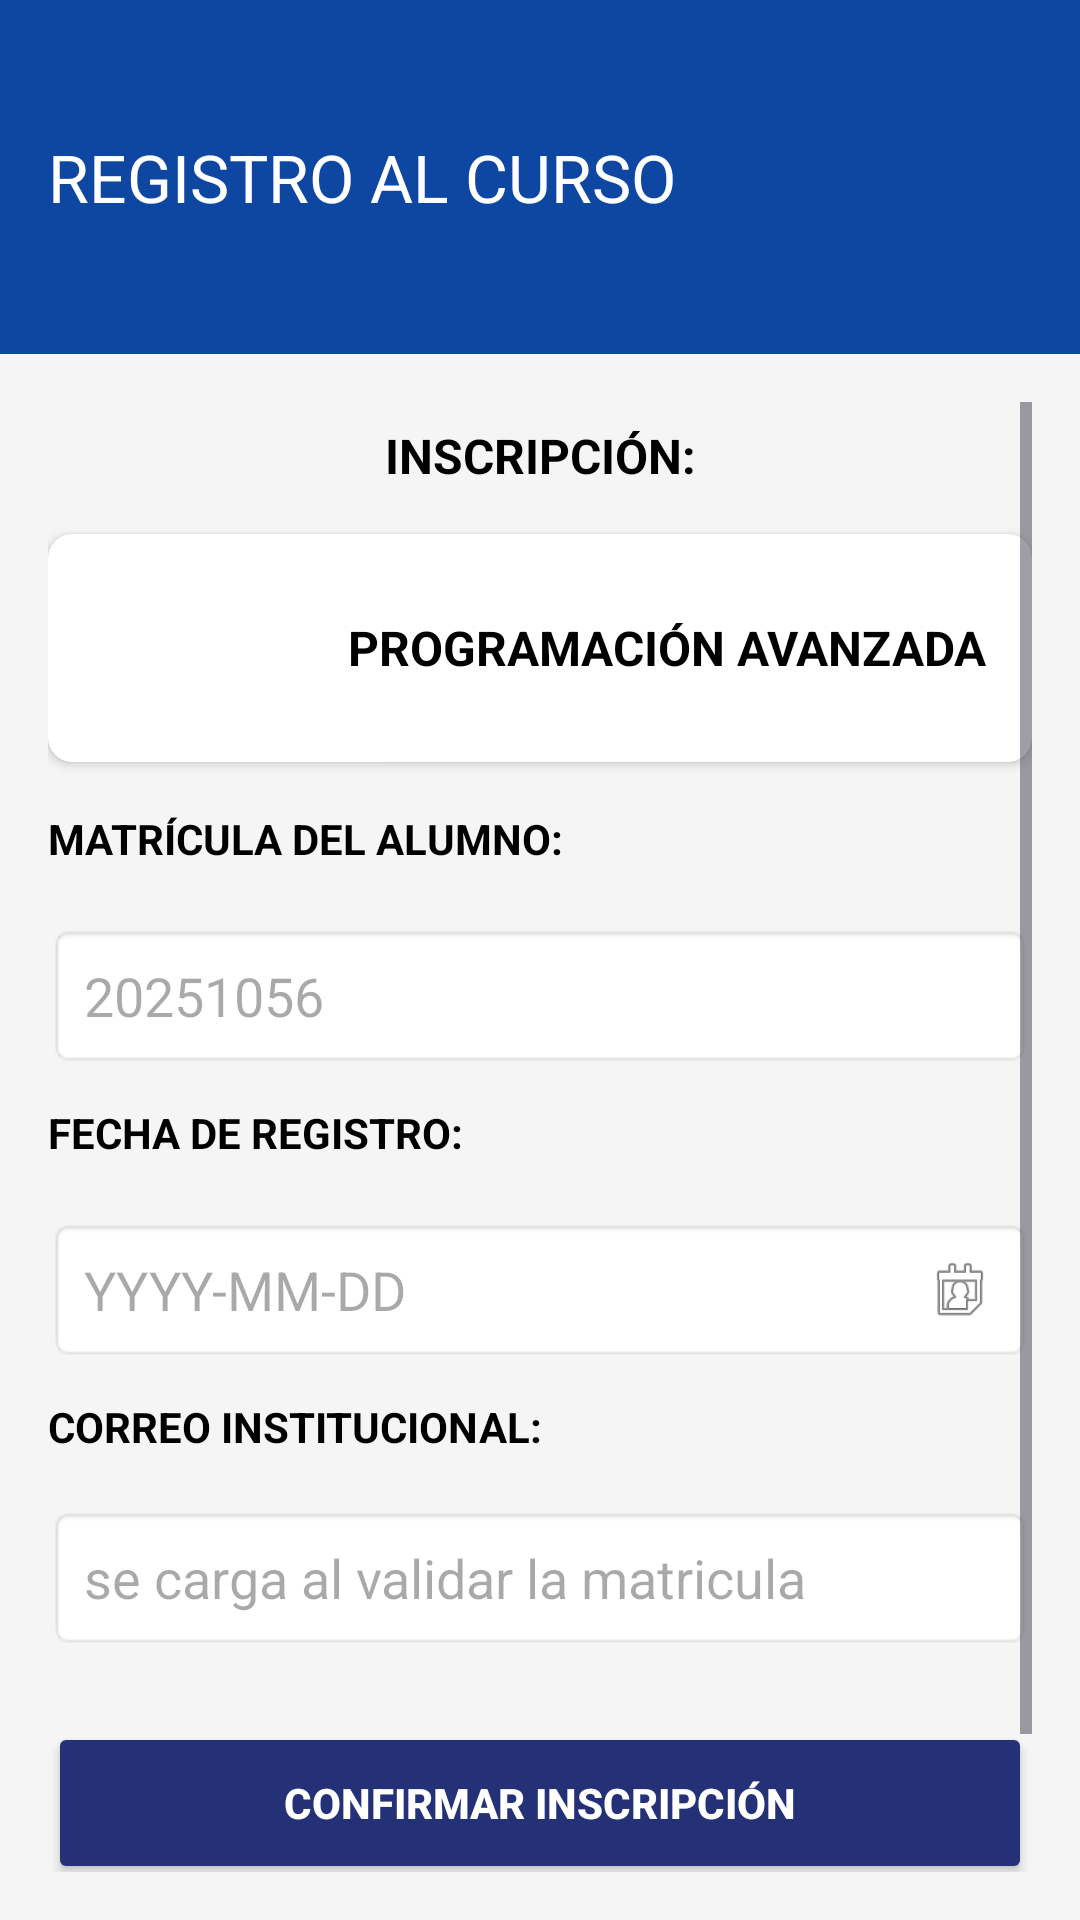

Where icons sit on this 1080px×1920px app screen, as box(x1, y1, x2, y2):
calendar: box(937, 1263, 983, 1316)
